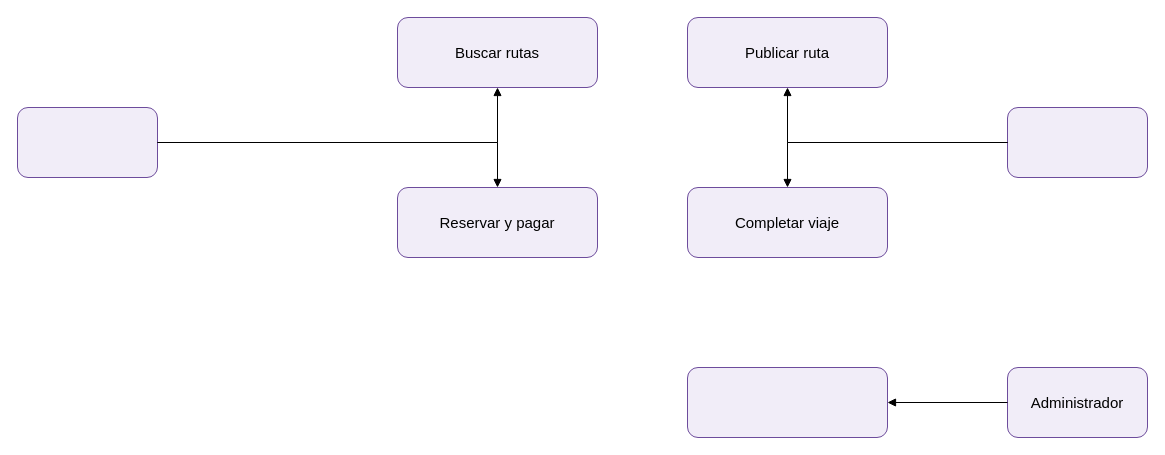
Image size: 1165x455. Some labels were removed from this diagram. Here are the shapes that lost their labels. From the top down, the box of each, then its label:
(16, 106, 158, 178): Pasajero
(1006, 106, 1148, 178): Conductor
(686, 366, 888, 438): Gestionar y reportar
